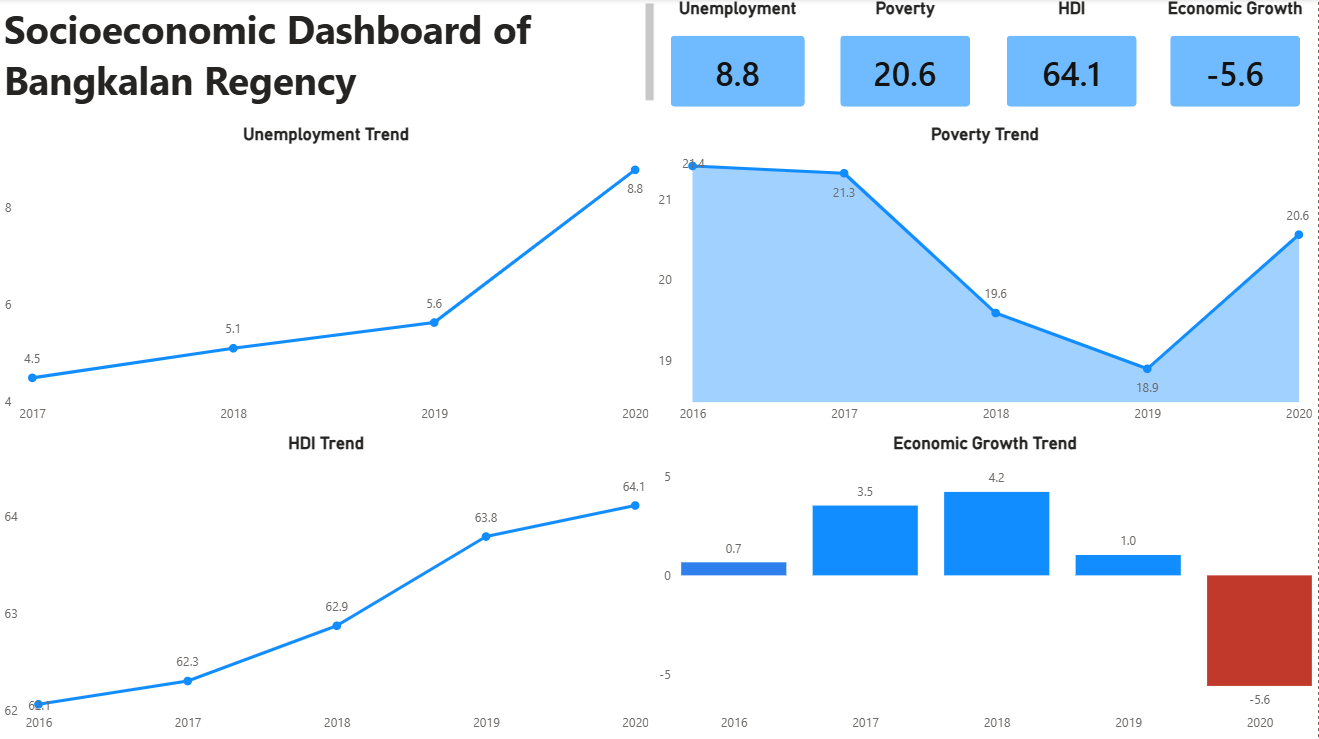

What the dashboard file says about the page in this screenshot:
{"tool":"powerbi","page":{"name":"Socioeconomic Dashboard","canvas":[1280,720],"ordinal":0},"visuals":[{"type":"lineChart","title":"Unemployment Trend","fields":{"Y":["Sum(Sheet2.Nilai)"],"Category":["Sheet2.Tahun"]},"box":[0,122.8,635,298.6],"z":0},{"type":"areaChart","title":"Poverty Trend","fields":{"Category":["Sheet2.Tahun"],"Y":["Sum(Sheet2.Nilai)"]},"box":[635,122.8,644.4,298.6],"z":1000},{"type":"lineChart","title":"HDI Trend","fields":{"Y":["Sum(Sheet2.Nilai)"],"Category":["Sheet2.Tahun"]},"box":[0,421.4,635,298.6],"z":2000},{"type":"columnChart","title":"Economic Growth Trend","fields":{"Category":["Sheet2.Tahun"],"Y":["Sum(Sheet2.Nilai)"]},"box":[635,421.4,644.4,298.6],"z":3000},{"type":"cardVisual","title":"Economic Growth","fields":{"Data":["Sum(Sheet2.Nilai)"]},"box":[1118.7,0,160.6,122.8],"z":4000},{"type":"cardVisual","title":"HDI","fields":{"Data":["Sum(Sheet2.Nilai)"]},"box":[960,0,160.6,122.8],"z":5000},{"type":"cardVisual","title":"Poverty ","fields":{"Data":["Sum(Sheet2.Nilai)"]},"box":[799.4,0,160.6,122.8],"z":6000},{"type":"cardVisual","title":"Unemployment","fields":{"Data":["Sum(Sheet2.Nilai)"]},"box":[635,0,164.4,122.8],"z":7000},{"type":"textbox","box":[0,0,640.6,122.8],"z":8000}]}

Visuals, with their boxes in screenshot pixels (x1, y1, x2, y2), scaled from the page's 1280x720 canvas onto the 1319x739 screenshot:
"Unemployment Trend" lineChart: x1=0, y1=126, x2=654, y2=433
"Poverty Trend" areaChart: x1=654, y1=126, x2=1318, y2=433
"HDI Trend" lineChart: x1=0, y1=433, x2=654, y2=738
"Economic Growth Trend" columnChart: x1=654, y1=433, x2=1318, y2=738
"Economic Growth" cardVisual: x1=1153, y1=0, x2=1318, y2=126
"HDI" cardVisual: x1=989, y1=0, x2=1155, y2=126
"Poverty " cardVisual: x1=824, y1=0, x2=989, y2=126
"Unemployment" cardVisual: x1=654, y1=0, x2=824, y2=126
textbox: x1=0, y1=0, x2=660, y2=126
